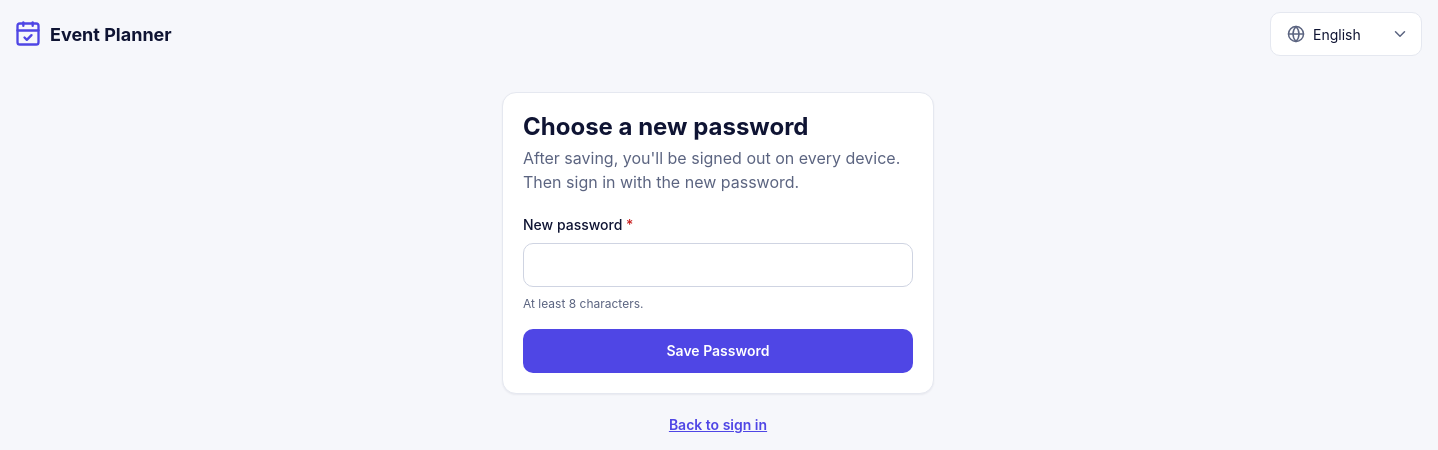
Scenario: forgot and reset password › explains an expired link and a missing one, and offers a new one
The width and height of the screenshot is (1438, 450).
In the password field labelled "New password *": (718, 265) [523,243,913,287], type "battery-staple"
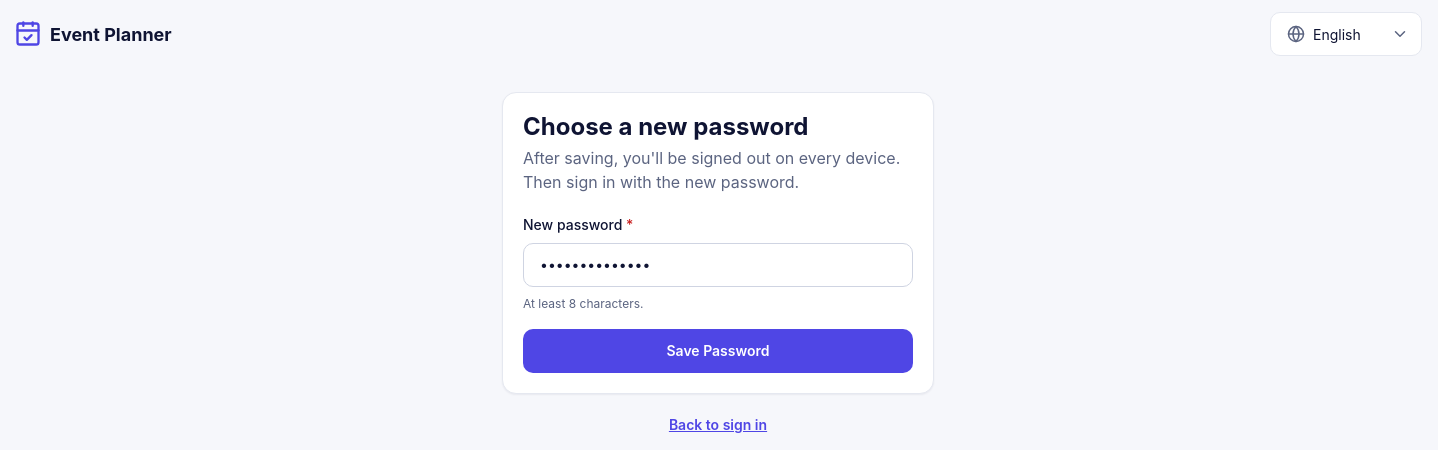
Click the button "Save Password": (718, 351) [523,329,913,373]
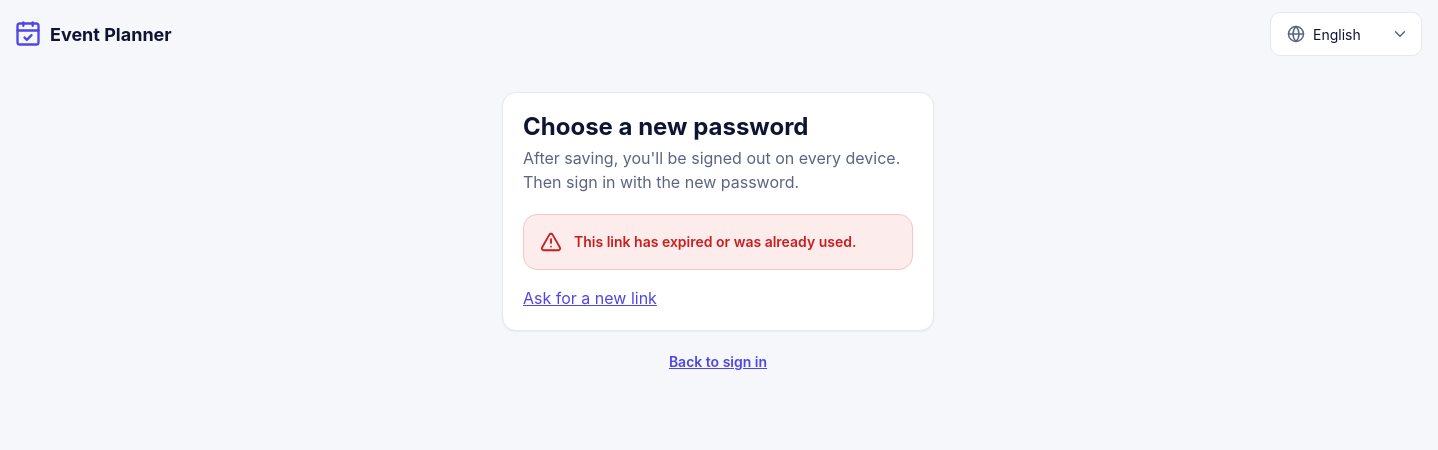
Check: the text "This link has expired or was already used." is shown, box [574,231,896,252]
